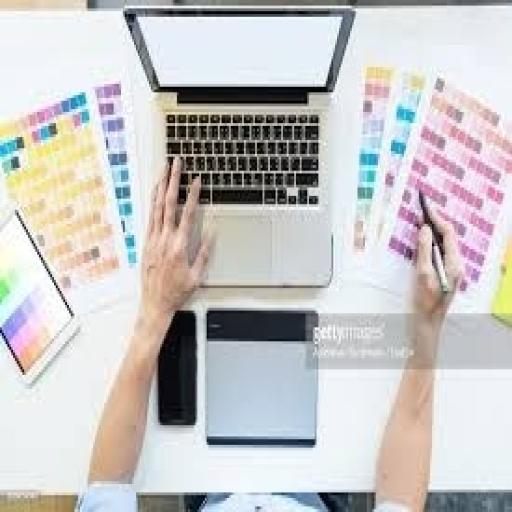using_laptop: (121, 3, 357, 288)
